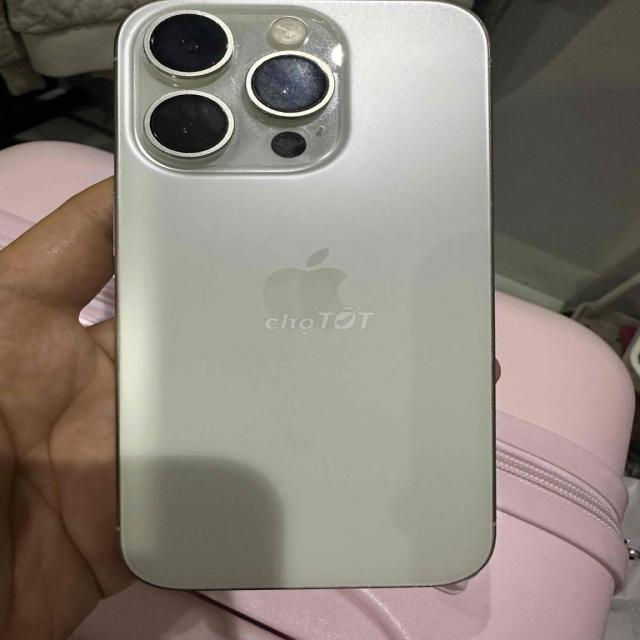gen_15: (105, 0, 499, 601)
scratch: (130, 7, 346, 172)
